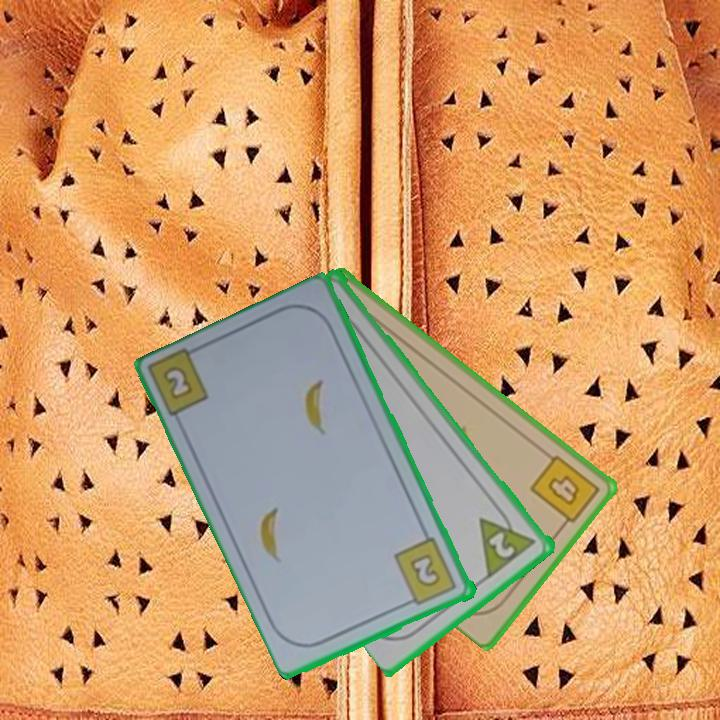2b: (391, 534, 460, 609), (159, 362, 196, 403)
2p: (475, 501, 540, 580)
4b: (526, 451, 603, 532)
